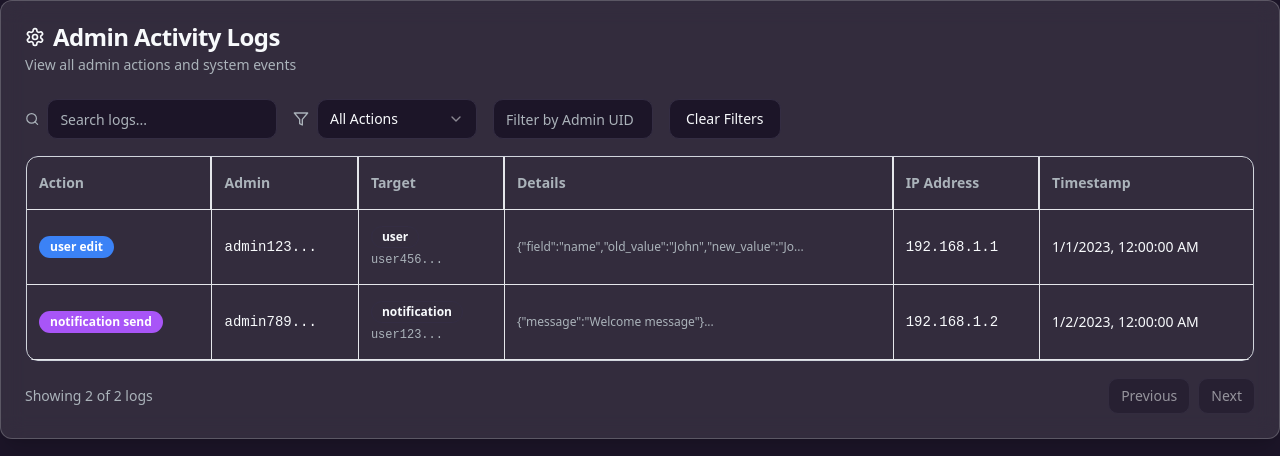
Scenario: AdminLogs › clears all filters when clear button is clicked
Expected: the text "user edit" is shown, [39,236,114,258]
// Set some filters first
Type "test" into the field with placeholder "Search logs..." at (162, 119), box [47,99,277,139]
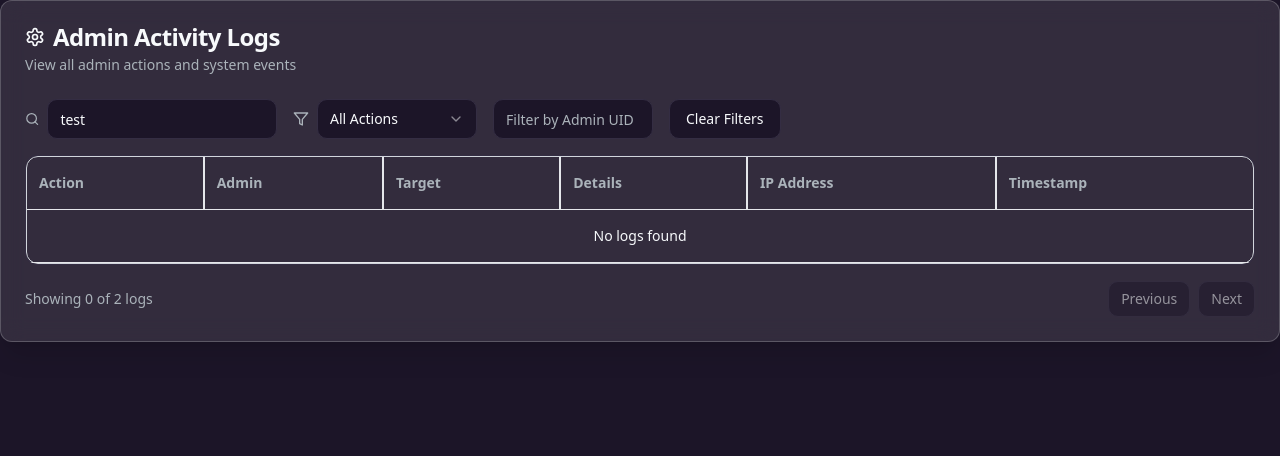
Type "admin123" into the field with placeholder "Filter by Admin UID" at (573, 119), box [493,99,653,139]
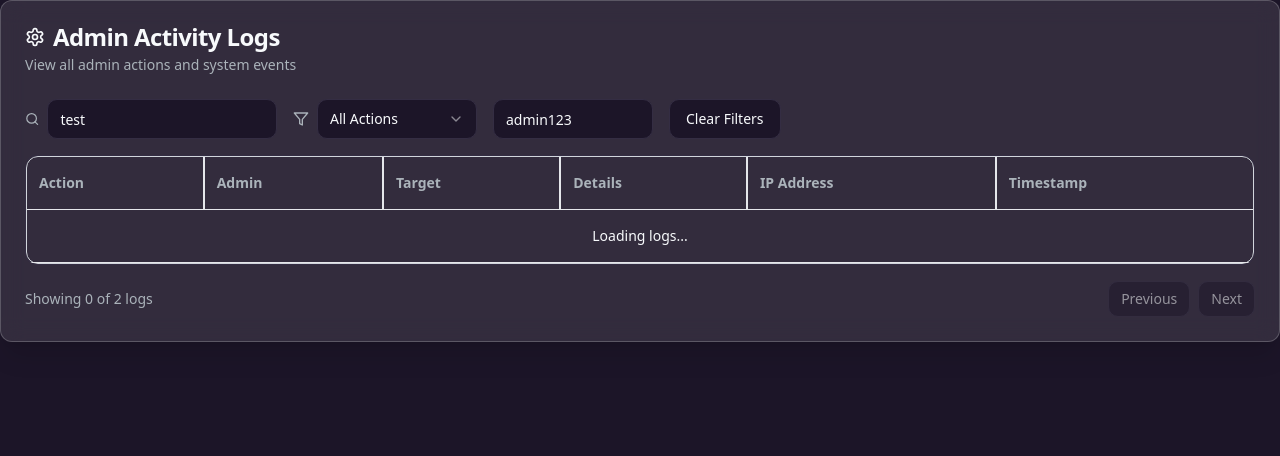
// Click clear filters button
Click the button "Clear Filters" at (725, 119), box [669,99,781,139]
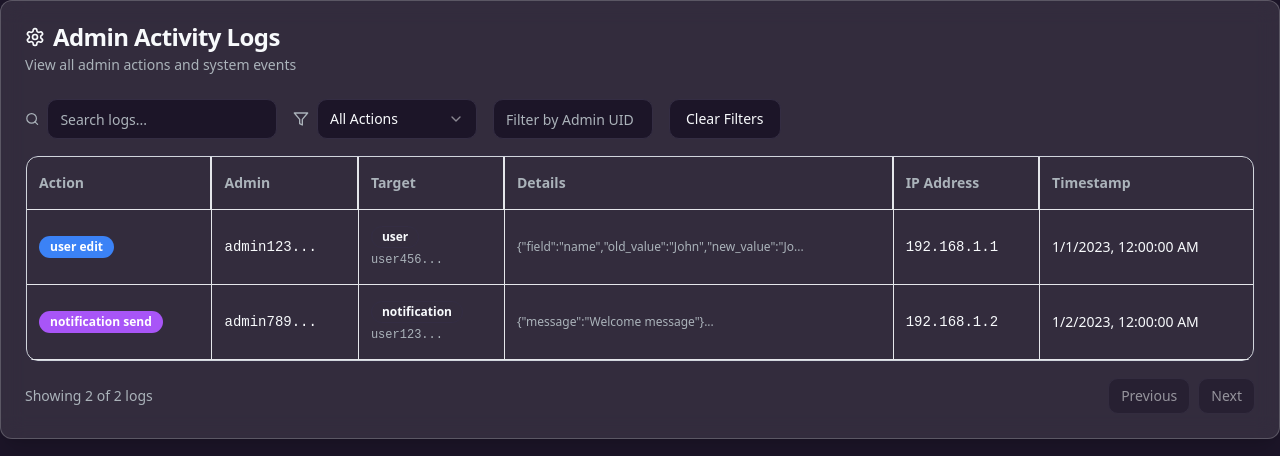
Now the field with placeholder "Search logs..." is empty, box [47,99,277,139]
Now the field with placeholder "Filter by Admin UID" is empty, box [493,99,653,139]
